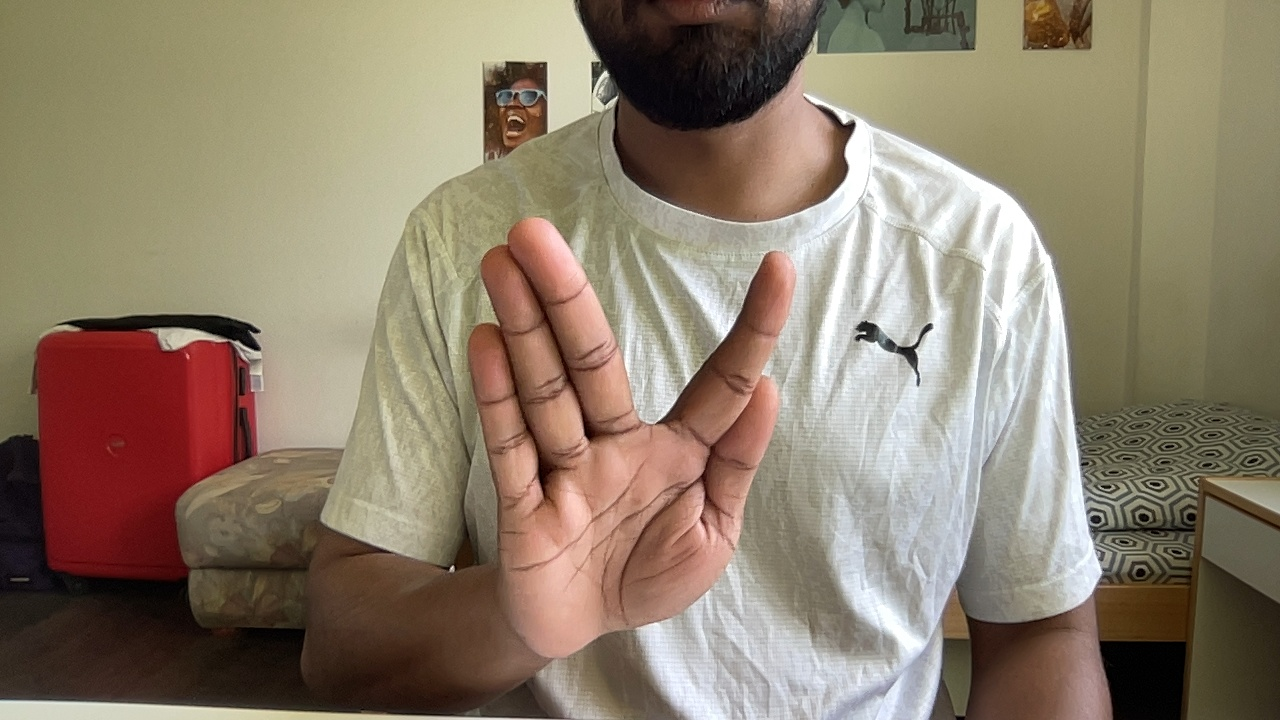LiveLong: (462, 215, 797, 662)
